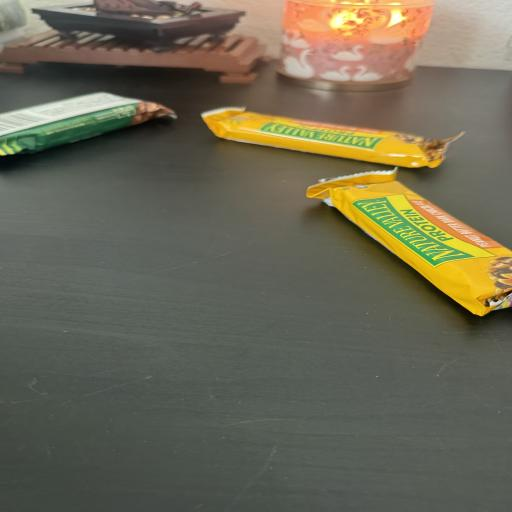granola: (307, 169, 511, 315), (202, 107, 462, 167), (0, 93, 176, 155)
